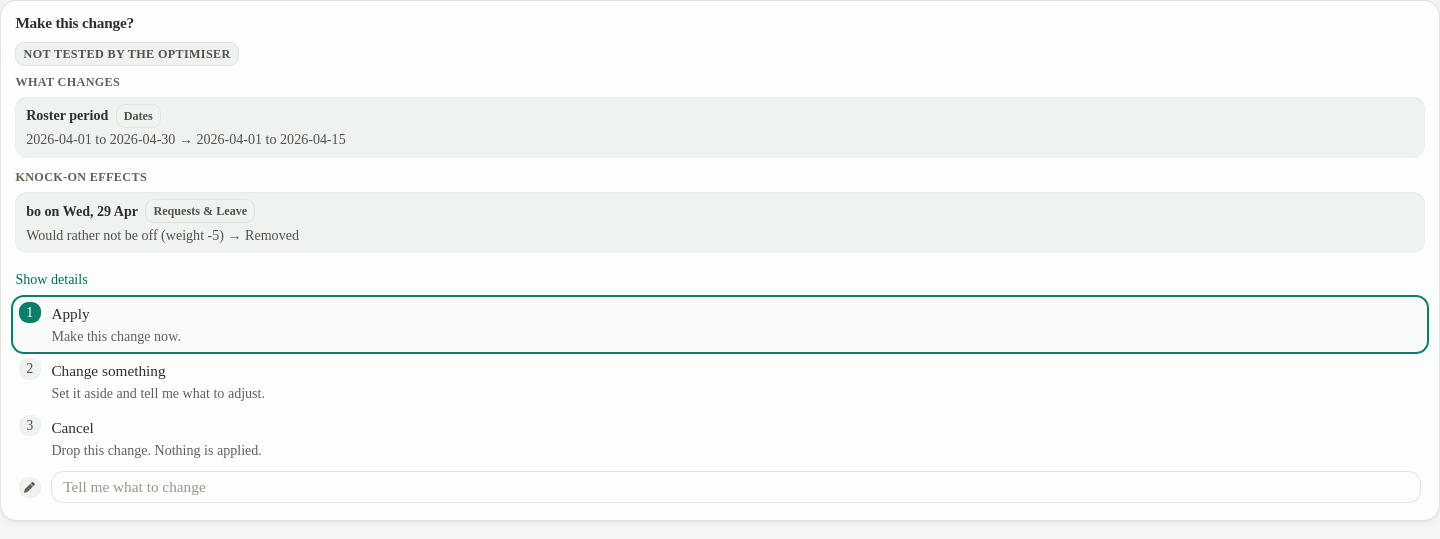
Test: Apply › does not bring an applied proposal back as a Preview after Apply settles
The image size is (1440, 539).
Click the button with test id "proposal-apply" at coordinates (70, 314), box [12,296,1428,353]
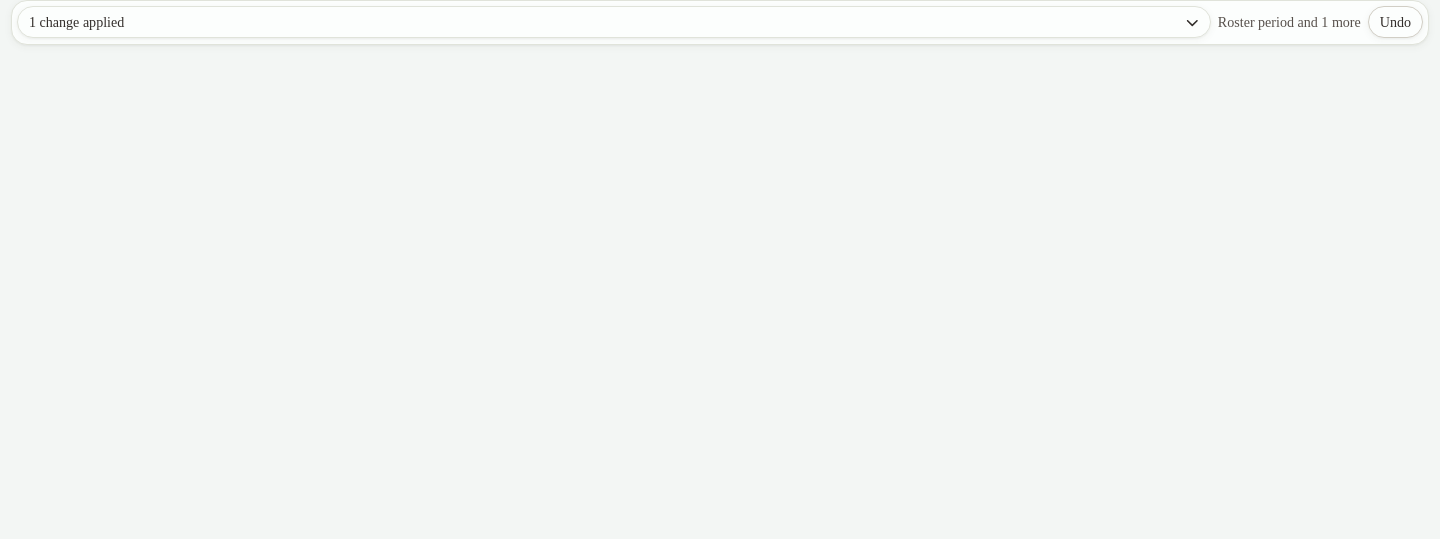
Expected: the element with test id "assistant-receipts" is shown, [11,0,1429,45]
Expected: the button with test id "proposal-revise" is gone
Expected: the button with test id "proposal-cancel" is gone
